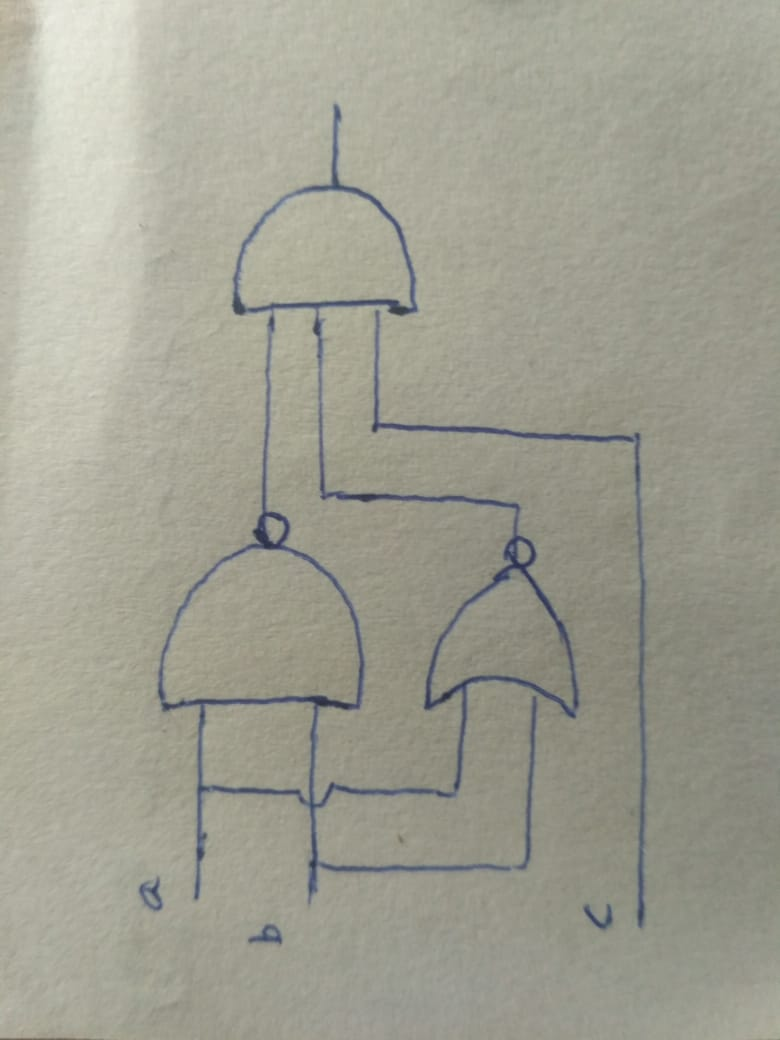and: (203, 149, 449, 366)
nand: (123, 505, 398, 736)
nor: (411, 520, 605, 733)
